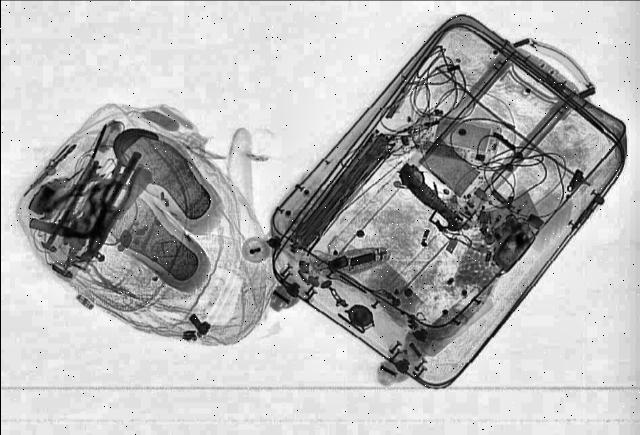Pliers: (78, 150, 154, 258)
